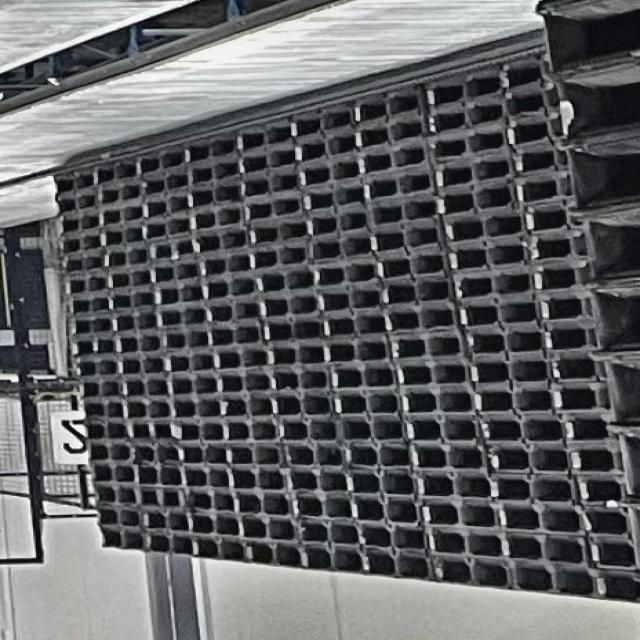igps: (425, 60, 500, 111), (509, 564, 597, 602), (434, 552, 514, 593), (426, 99, 506, 140), (353, 80, 424, 126), (501, 530, 590, 566), (497, 49, 558, 100), (434, 183, 515, 218), (428, 126, 506, 162), (486, 474, 579, 504), (446, 239, 528, 273), (288, 98, 354, 140), (496, 501, 582, 533), (353, 114, 427, 151), (434, 156, 513, 190), (442, 213, 525, 245), (356, 551, 434, 585), (420, 500, 499, 533), (356, 142, 428, 178), (362, 171, 436, 205), (487, 444, 570, 474), (502, 87, 562, 128), (453, 272, 532, 302), (297, 540, 361, 577), (407, 442, 488, 471), (463, 330, 543, 358), (512, 175, 582, 207), (479, 420, 565, 446), (382, 307, 459, 336), (416, 471, 490, 501), (468, 359, 550, 386), (355, 523, 428, 553), (458, 301, 539, 328), (472, 389, 553, 416), (234, 114, 290, 153), (399, 390, 473, 419), (293, 131, 354, 166), (364, 200, 436, 229), (396, 362, 470, 390), (182, 127, 235, 166), (538, 292, 602, 324), (304, 208, 372, 238), (380, 281, 455, 308), (345, 469, 417, 497), (240, 541, 305, 572), (542, 323, 603, 356), (506, 118, 565, 152), (373, 255, 447, 282), (387, 337, 466, 362), (344, 441, 412, 470), (348, 498, 421, 525), (551, 382, 614, 413), (302, 183, 363, 215), (323, 338, 390, 367), (405, 418, 479, 444), (428, 532, 502, 558), (297, 158, 357, 190), (312, 259, 376, 289), (532, 266, 596, 296), (135, 140, 185, 178), (563, 414, 622, 446), (368, 230, 443, 255), (588, 536, 640, 572), (581, 504, 636, 538), (333, 389, 402, 416), (511, 148, 575, 177), (590, 569, 640, 606), (233, 147, 294, 177), (549, 356, 614, 384), (330, 366, 397, 393), (316, 286, 380, 314), (576, 474, 627, 509), (323, 312, 384, 341), (527, 234, 588, 263), (235, 514, 298, 542), (306, 235, 369, 263), (295, 518, 357, 546), (334, 418, 406, 442), (246, 218, 305, 247), (188, 204, 246, 233), (568, 446, 626, 475), (190, 534, 246, 564), (238, 172, 298, 200), (186, 157, 238, 189), (291, 495, 350, 523), (524, 208, 585, 235), (256, 294, 319, 320), (269, 394, 334, 419), (242, 195, 300, 223), (248, 245, 308, 272), (252, 268, 314, 294), (191, 229, 249, 256), (280, 444, 345, 468), (230, 491, 292, 516), (268, 368, 330, 393), (176, 488, 235, 514), (200, 275, 256, 302), (262, 320, 324, 344), (51, 163, 94, 197), (92, 153, 136, 186), (266, 343, 324, 368), (186, 185, 241, 211), (95, 526, 146, 554), (284, 471, 346, 494), (205, 323, 262, 348), (226, 468, 287, 491), (276, 421, 337, 444), (204, 301, 259, 326), (212, 347, 267, 372), (225, 445, 284, 468), (222, 419, 278, 443), (142, 533, 193, 559), (162, 351, 214, 376), (185, 514, 239, 538), (216, 372, 270, 396), (166, 373, 217, 398), (198, 253, 249, 278), (155, 304, 205, 329), (158, 328, 208, 353), (218, 396, 272, 419), (92, 506, 143, 530), (140, 217, 190, 241), (149, 261, 199, 285), (120, 376, 166, 402), (168, 398, 220, 421), (169, 420, 223, 442), (152, 284, 201, 308), (177, 443, 226, 467), (65, 338, 116, 361), (132, 485, 180, 509), (142, 195, 188, 220), (65, 358, 119, 379), (54, 233, 101, 257), (96, 184, 143, 208), (103, 247, 150, 271), (140, 174, 187, 198), (123, 419, 171, 442), (141, 508, 187, 532), (145, 238, 191, 262), (98, 203, 142, 228), (120, 400, 170, 422), (128, 443, 178, 465), (178, 468, 228, 490), (110, 311, 157, 334), (131, 465, 180, 487), (59, 275, 107, 297), (86, 463, 134, 485), (59, 295, 109, 316), (112, 335, 162, 356), (89, 484, 135, 506), (64, 317, 112, 338), (78, 421, 126, 442), (115, 355, 163, 376), (53, 192, 98, 214), (54, 212, 99, 234), (98, 226, 141, 249), (83, 442, 130, 463), (106, 269, 150, 291), (107, 294, 154, 314), (78, 399, 122, 420), (58, 256, 104, 276), (75, 380, 122, 399)
